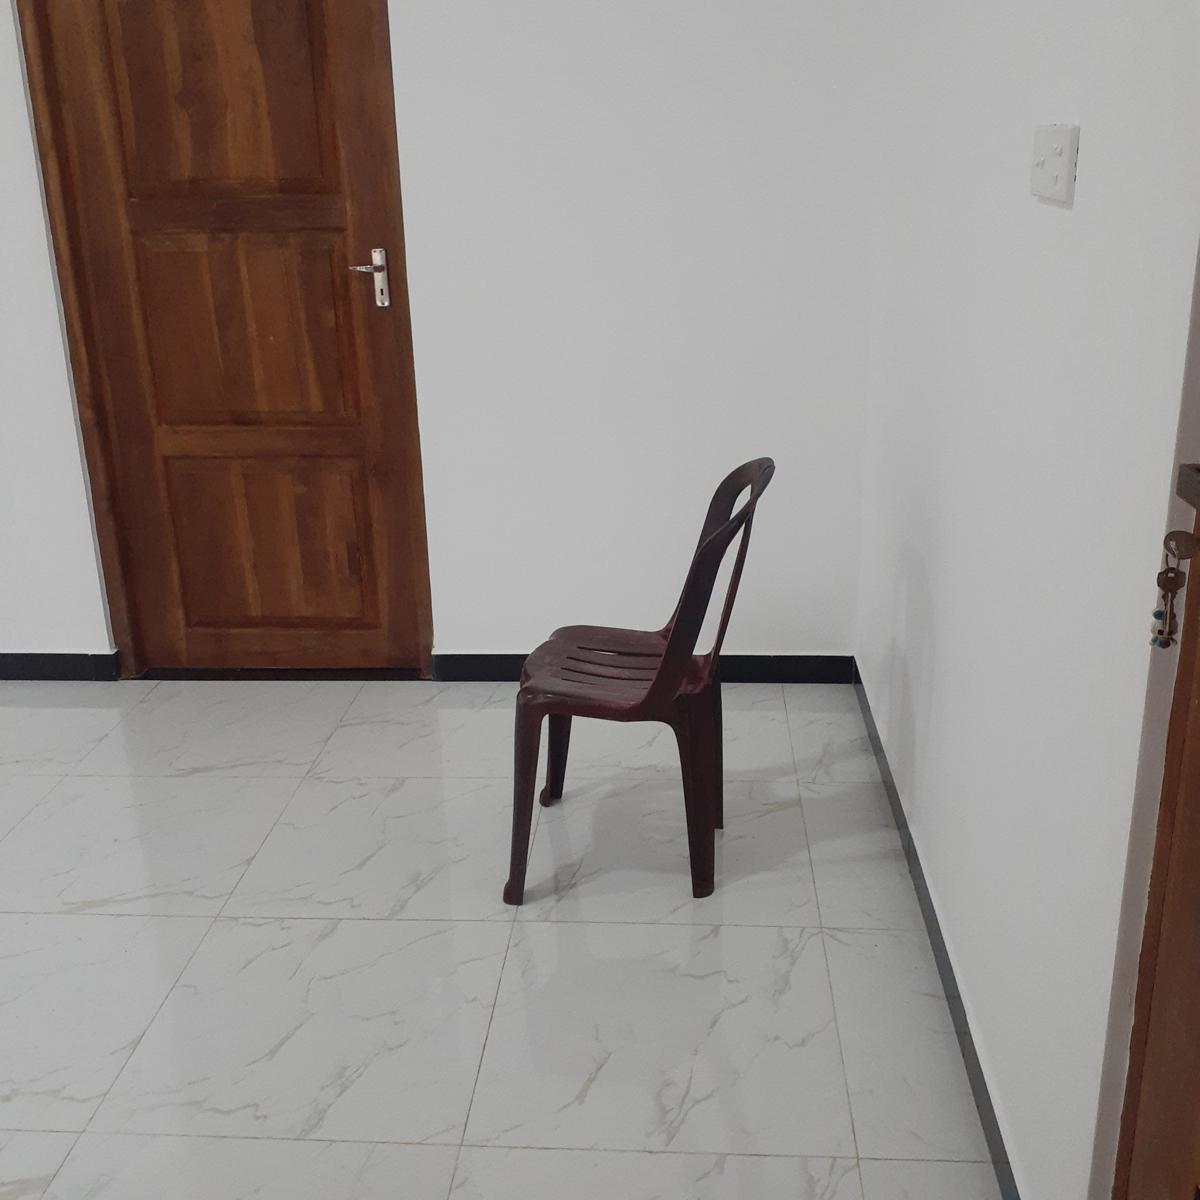Chair: (503, 456, 780, 908)
